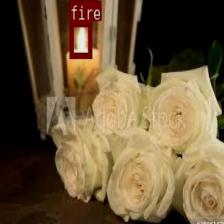fire: (70, 20, 92, 57)
